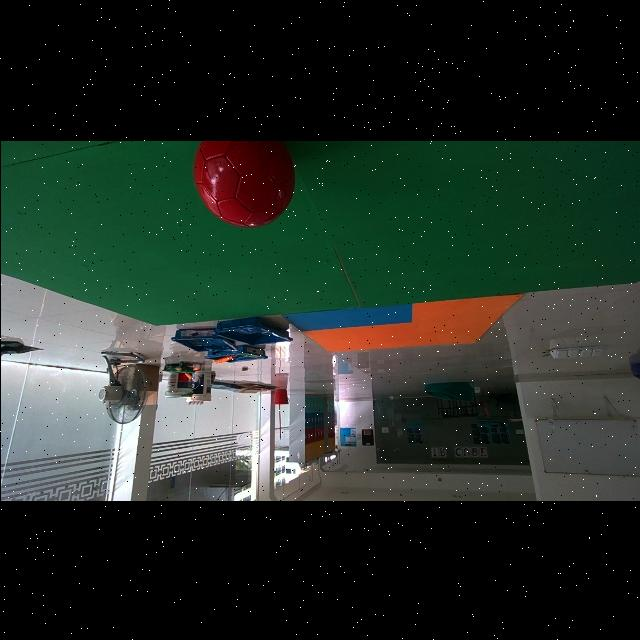R: (193, 140, 294, 227)
